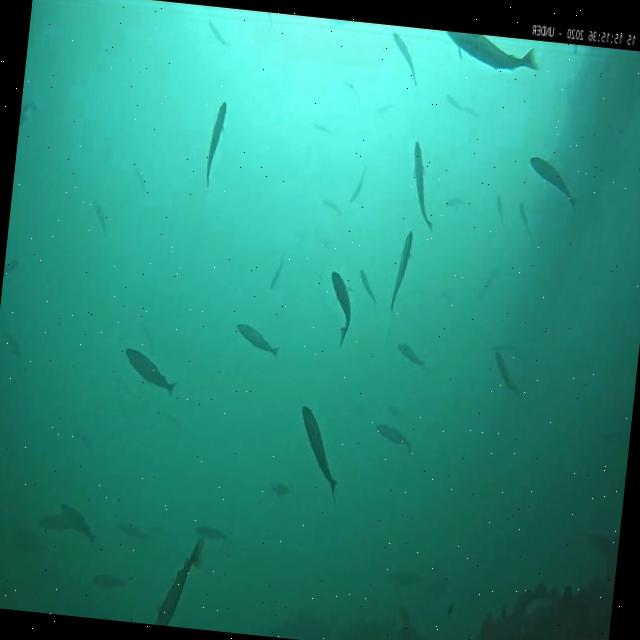fish: (440, 30, 539, 77), (154, 534, 202, 626), (293, 407, 340, 497), (522, 153, 582, 214), (402, 141, 439, 234), (121, 347, 180, 392), (323, 271, 356, 350), (200, 99, 227, 192), (386, 32, 422, 88), (231, 321, 281, 357), (58, 502, 96, 542), (491, 352, 520, 394), (374, 424, 412, 450), (88, 194, 110, 237), (355, 268, 379, 306), (116, 518, 152, 542), (90, 569, 126, 593), (393, 342, 425, 367), (38, 513, 74, 535), (0, 330, 24, 362), (203, 19, 230, 46), (191, 525, 228, 543), (349, 169, 366, 207), (444, 95, 476, 114), (517, 200, 533, 234), (494, 198, 508, 235), (342, 78, 361, 100), (270, 257, 283, 288), (4, 253, 20, 276), (270, 484, 290, 500), (323, 197, 341, 213), (446, 193, 462, 208), (312, 122, 330, 134), (374, 102, 392, 114)
